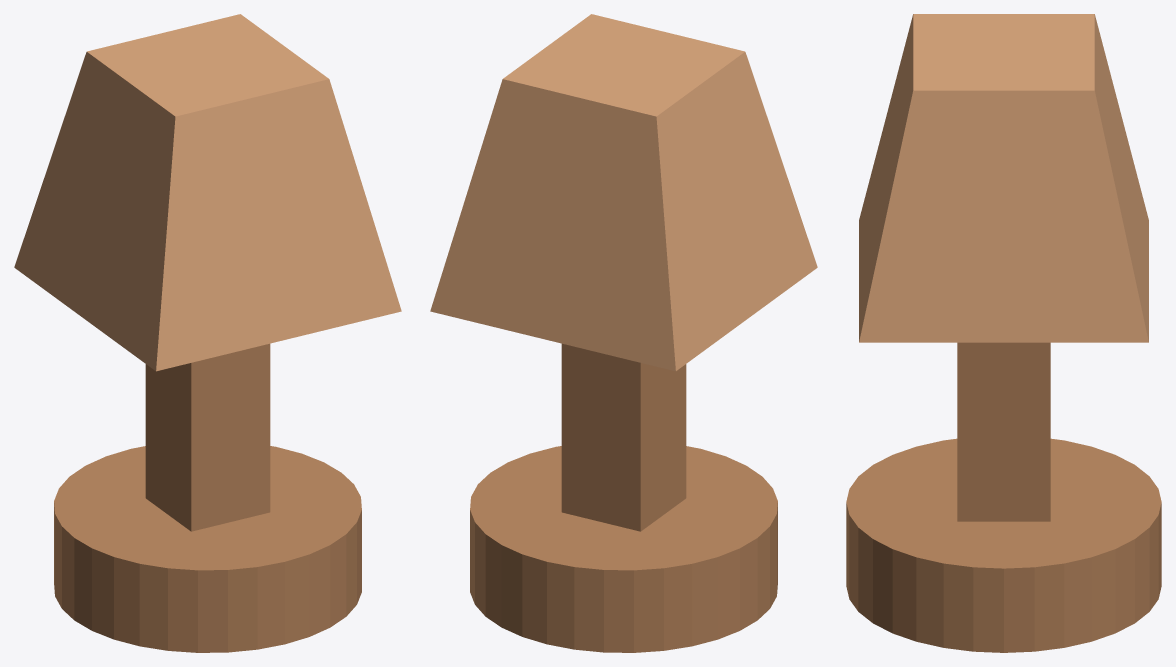
The model's file is Lamp.fbx.
The picture shows the model from 3 angles, left to right: view 1: azimuth 30°, elevation 25°; view 2: azimuth 150°, elevation 25°; view 3: azimuth 270°, elevation 25°; orthographic projection. The views are drawn at different scales.
Visible parts, largest first — view 1: Cube.002, bottom, Cube; view 2: Cube.002, bottom, Cube; view 3: Cube.002, bottom, Cube.
Boxes of the visible parts, box(x1,y1,x2,y2) form: Cube.002: box(14, 14, 401, 371); bottom: box(54, 446, 361, 652); Cube: box(145, 343, 270, 531); Cube.002: box(430, 14, 817, 371); bottom: box(470, 446, 777, 652); Cube: box(561, 343, 686, 531); Cube.002: box(859, 14, 1148, 342); bottom: box(846, 438, 1161, 652); Cube: box(957, 342, 1050, 521).
Size of the model in its own units: 249 by 466 by 249.
